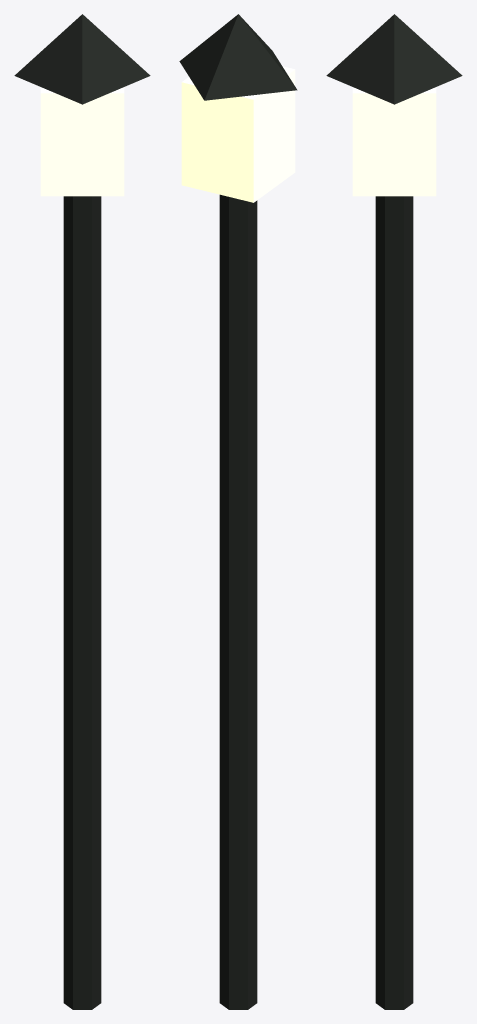
Rendered from latarnia.glb.
The picture shows the model from 3 angles, left to right: view 1: azimuth 90°, elevation 25°; view 2: azimuth 150°, elevation 25°; view 3: azimuth 270°, elevation 25°; orthographic projection.
Parts seen in each view (by area): view 1: latarnia; view 2: latarnia; view 3: latarnia.
Part boxes in pixels (x1=…): latarnia: x1=14, y1=14, x2=150, y2=1009; latarnia: x1=179, y1=14, x2=297, y2=1009; latarnia: x1=326, y1=14, x2=462, y2=1009.
Size of the model in its own units: 0.36 by 2.88 by 0.36.
